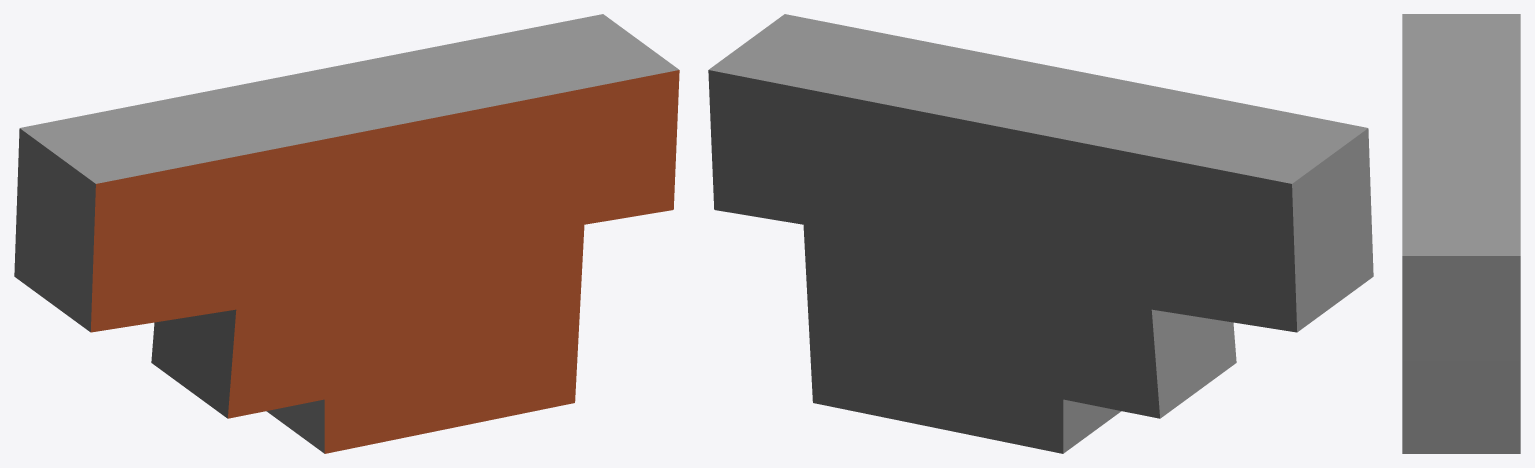
The model's file is construction_0780_assumed_A_Casa_h6m.obj.
3 renders of one model, left to right at view 1: azimuth 30°, elevation 25°; view 2: azimuth 150°, elevation 25°; view 3: azimuth 270°, elevation 25°, orthographic. The views are drawn at different scales.
Visible parts, largest first — view 1: construction_0780_assumed_A_Casa; view 2: construction_0780_assumed_A_Casa; view 3: construction_0780_assumed_A_Casa.
Part boxes in pixels (box(x1,y1,x2,y2)): construction_0780_assumed_A_Casa: box(14, 14, 679, 453); construction_0780_assumed_A_Casa: box(708, 14, 1373, 453); construction_0780_assumed_A_Casa: box(1402, 14, 1520, 453).
Size of the model in its own units: 26.69 by 14.55 by 6.
